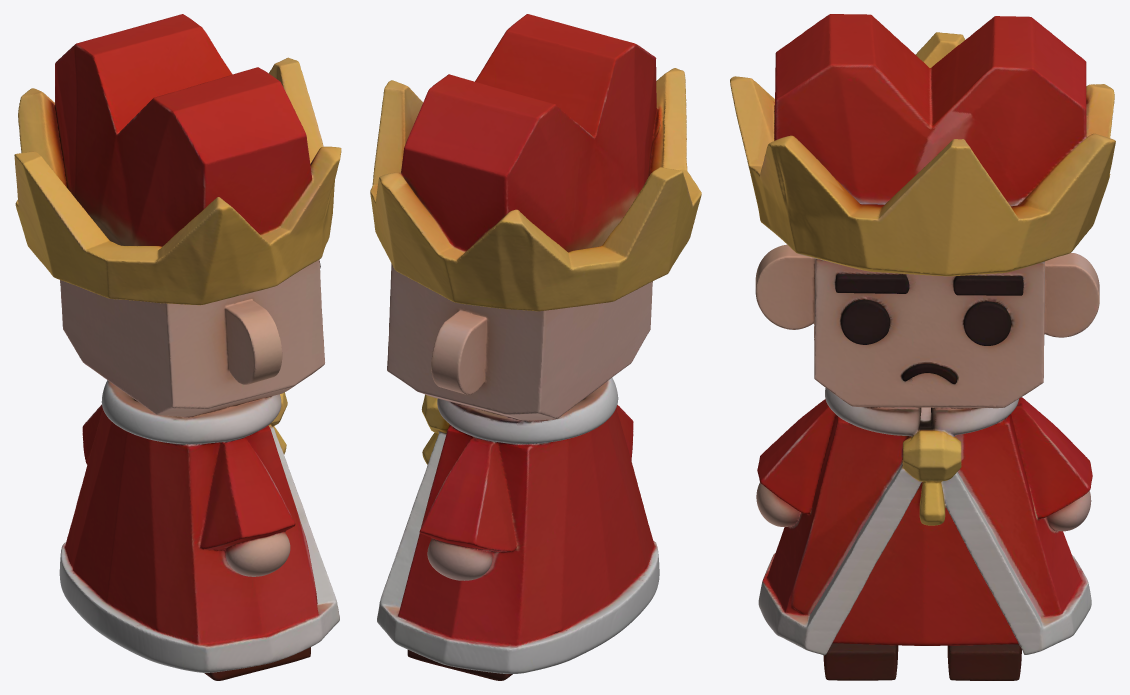
The model's file is king_of_hearts.glb.
The picture shows the model from 3 angles, left to right: view 1: azimuth 30°, elevation 25°; view 2: azimuth 150°, elevation 25°; view 3: azimuth 270°, elevation 25°; orthographic projection. The views are drawn at different scales.
Visible parts, largest first — view 1: tripo_node_12d1eb98-8826-49b7-a0d3-7bbf47c4f71d; view 2: tripo_node_12d1eb98-8826-49b7-a0d3-7bbf47c4f71d; view 3: tripo_node_12d1eb98-8826-49b7-a0d3-7bbf47c4f71d.
Boxes of the visible parts, box(x1,y1,x2,y2) form: tripo_node_12d1eb98-8826-49b7-a0d3-7bbf47c4f71d: box(14, 14, 341, 680); tripo_node_12d1eb98-8826-49b7-a0d3-7bbf47c4f71d: box(370, 14, 701, 680); tripo_node_12d1eb98-8826-49b7-a0d3-7bbf47c4f71d: box(730, 14, 1115, 680).
Size of the model in its own units: 0.5107 by 1 by 0.5773.
Materials: 1 (1 with a texture image).
